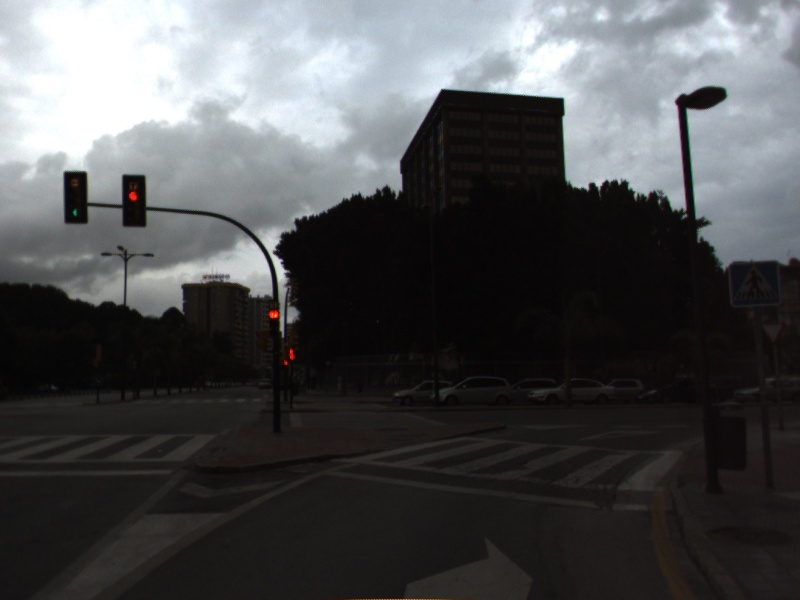RIGHT: (399, 530, 538, 600)
